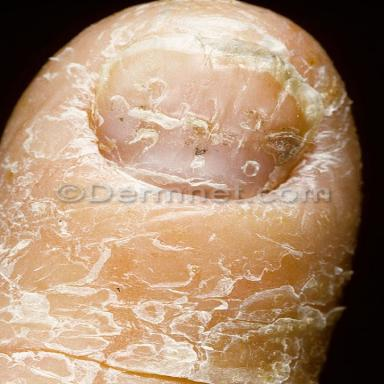eczema: (0, 0, 363, 384)
